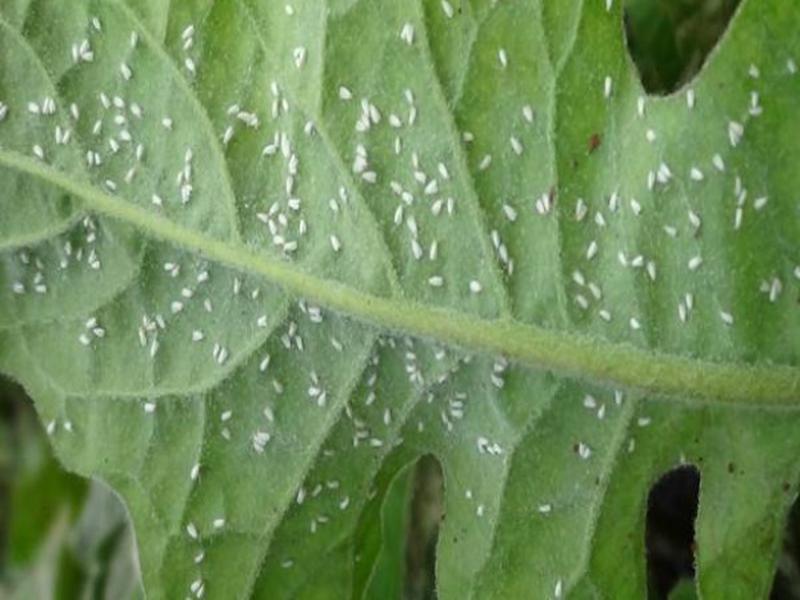Thrips: (48, 72, 756, 374)
